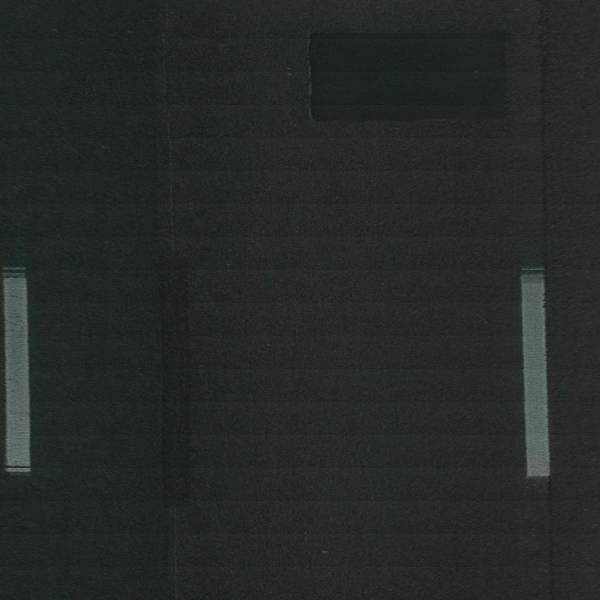road_damage: (299, 24, 516, 125)
